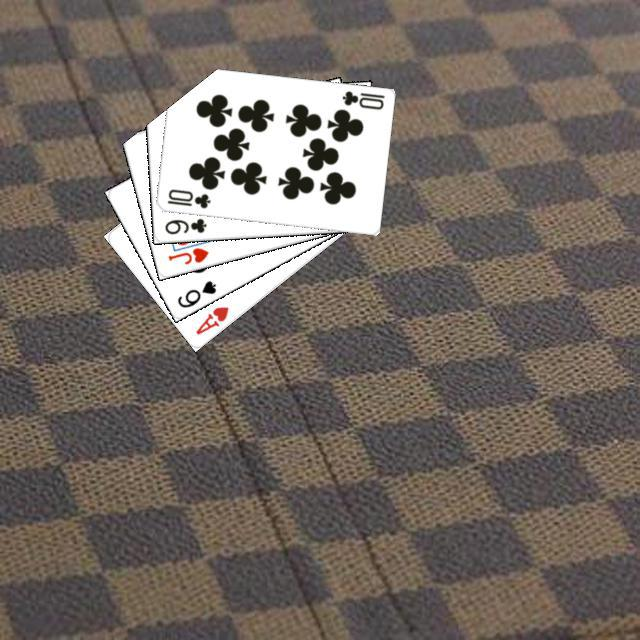10c: (162, 184, 212, 210), (337, 86, 386, 111)
6s: (172, 276, 218, 310)
9c: (160, 213, 208, 236)
Ah: (191, 301, 230, 337)
Jh: (163, 243, 210, 266)
